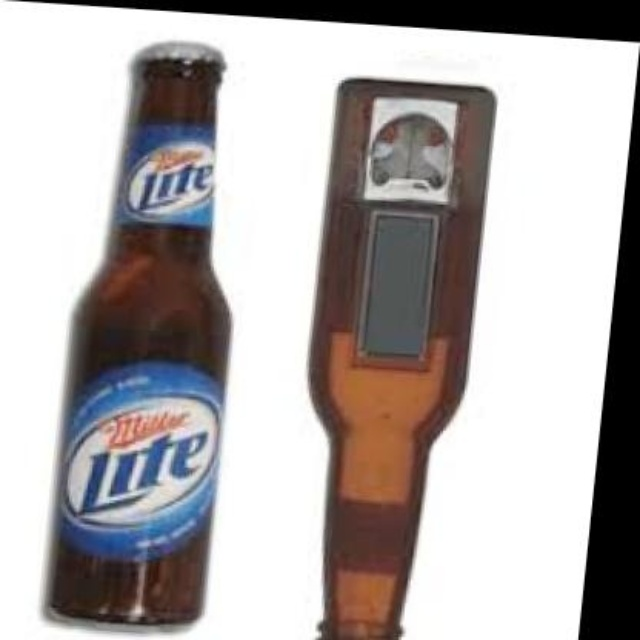trash: (49, 43, 229, 623), (309, 80, 492, 638)
